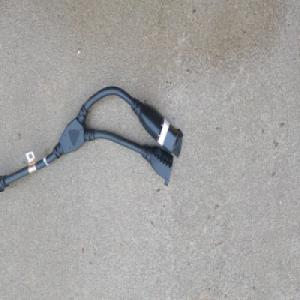Wire: (0, 83, 184, 195)
